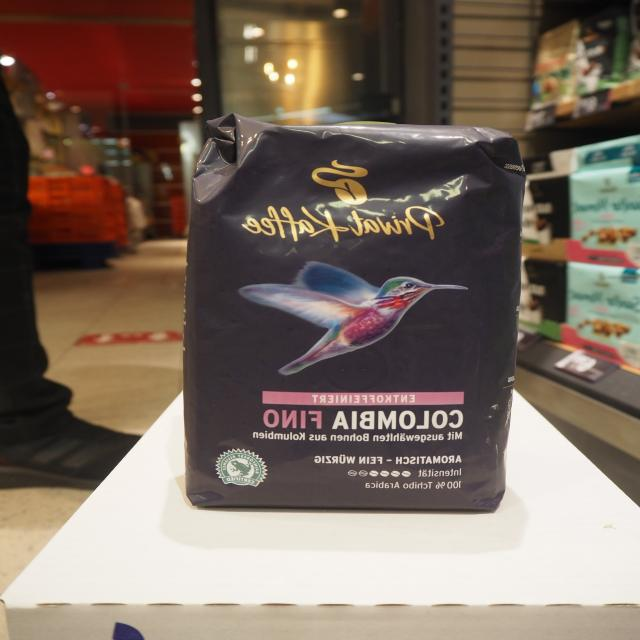C Fino Bohne: (175, 107, 529, 515)
